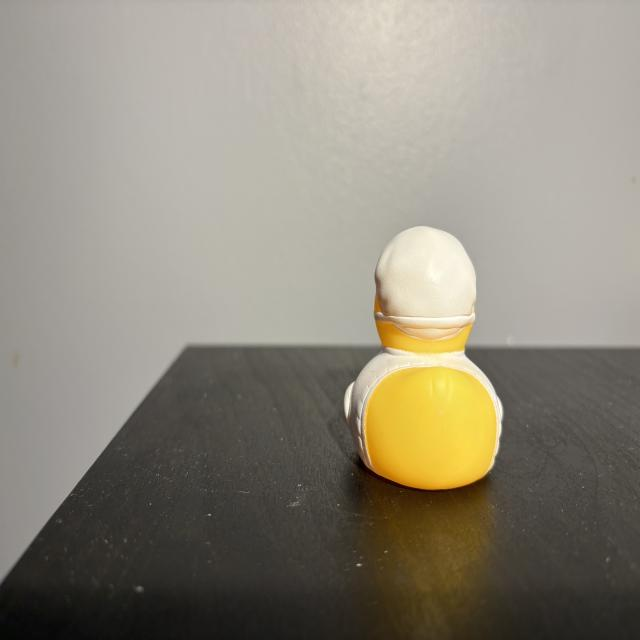duck_specialty: (345, 228, 504, 490)
